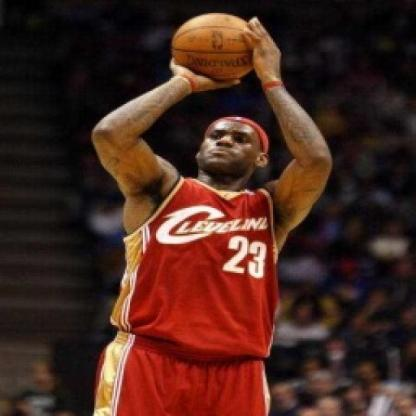basketball: (167, 9, 269, 92)
